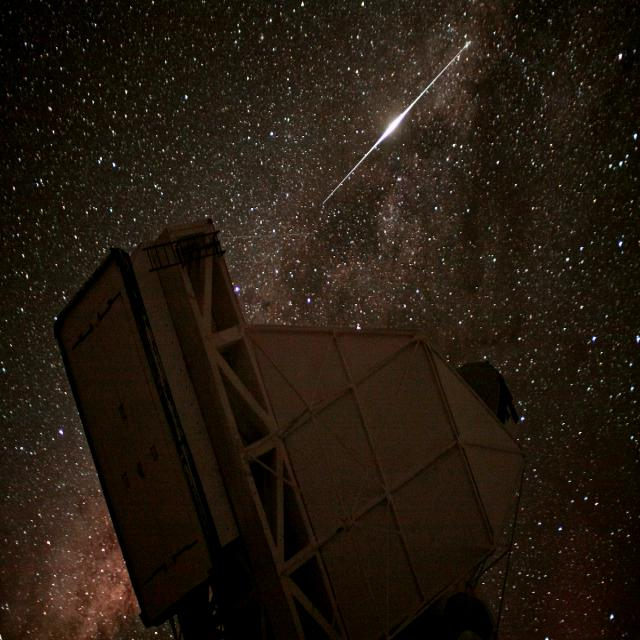medium_debris: (56, 215, 535, 640)
